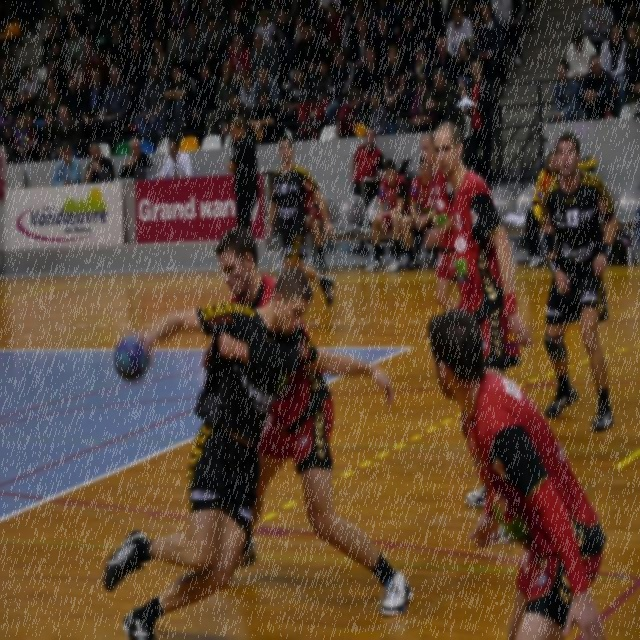pessoa: (100, 263, 398, 639), (212, 222, 414, 614), (426, 308, 608, 639), (432, 120, 535, 510), (536, 127, 622, 434), (30, 0, 211, 70), (264, 134, 336, 286), (416, 128, 464, 314), (366, 154, 411, 270), (400, 154, 440, 272), (225, 113, 261, 241), (350, 126, 385, 256), (463, 56, 496, 192), (524, 148, 561, 268), (598, 20, 628, 119), (156, 62, 194, 137), (133, 60, 168, 139), (80, 63, 108, 155), (324, 45, 356, 125), (475, 3, 507, 81), (290, 20, 322, 96), (578, 55, 614, 122), (490, 0, 526, 67), (120, 34, 148, 120), (91, 65, 132, 122), (192, 63, 219, 139), (581, 0, 615, 59), (549, 58, 580, 122), (380, 44, 408, 114), (305, 194, 330, 272), (51, 102, 84, 160), (247, 90, 281, 146), (154, 134, 194, 180), (163, 24, 187, 98), (248, 33, 280, 86), (118, 134, 154, 181), (349, 14, 371, 89), (272, 5, 296, 72), (566, 28, 598, 78), (445, 5, 474, 60), (426, 68, 460, 114), (218, 92, 252, 138), (402, 42, 433, 92), (50, 140, 82, 187), (429, 36, 457, 89), (82, 141, 116, 184), (15, 64, 42, 116), (178, 16, 206, 66), (65, 18, 89, 76), (204, 17, 224, 84), (216, 59, 242, 110), (146, 34, 174, 81), (251, 66, 282, 108), (399, 13, 424, 65), (336, 86, 360, 140), (223, 5, 250, 50), (358, 42, 382, 92), (61, 72, 85, 122), (624, 26, 640, 100), (40, 72, 64, 118), (374, 14, 396, 64), (342, 0, 364, 49), (228, 32, 252, 75), (457, 38, 478, 84), (63, 74, 84, 120), (274, 8, 298, 48), (411, 78, 432, 122), (294, 10, 320, 45), (370, 91, 390, 135), (254, 10, 276, 48), (40, 106, 62, 144), (288, 66, 308, 102), (314, 60, 334, 94), (239, 73, 258, 108), (422, 12, 442, 35), (69, 58, 83, 89), (624, 74, 640, 100), (190, 106, 204, 127), (227, 40, 236, 59), (360, 88, 370, 105)
